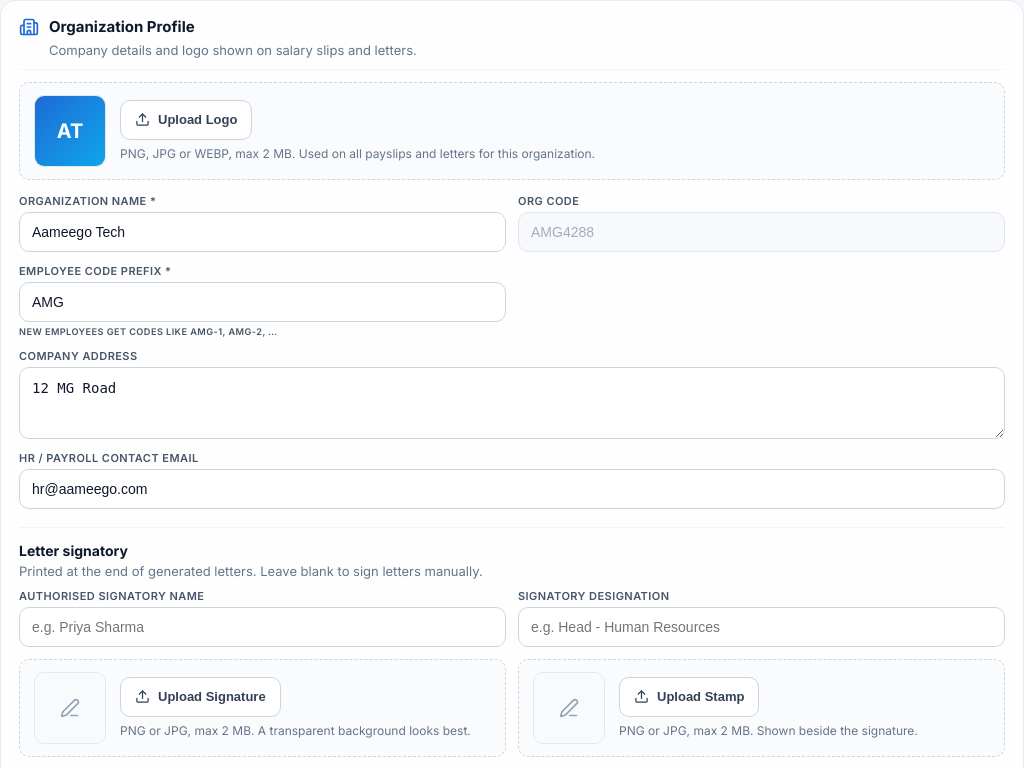
Test: employee code prefix is normalised while typing
The width and height of the screenshot is (1024, 768).
Replace the text in the field labelled "Employee Code Prefix" with "hr-1" at coordinates (262, 302), box x1=19 y1=282 x2=506 y2=322
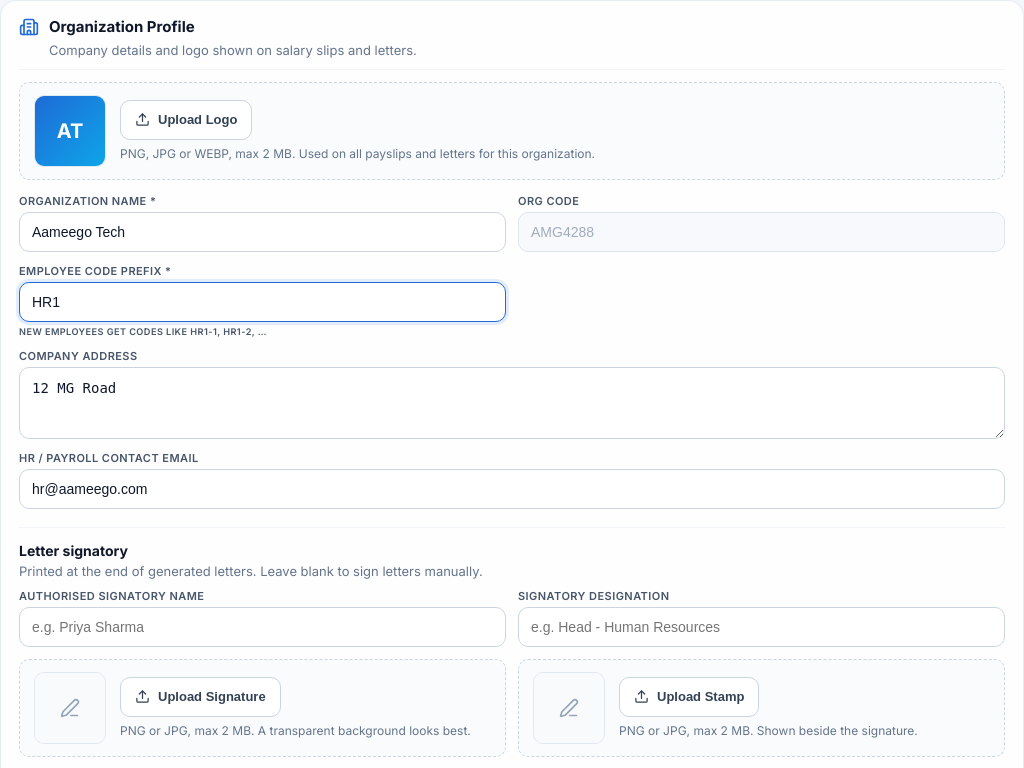
Check: the field labelled "Employee Code Prefix" holds "HR1", box x1=19 y1=282 x2=506 y2=322
Check: the text "New employees get codes like HR1-1, HR1-2, …" is shown, box x1=19 y1=326 x2=267 y2=337
